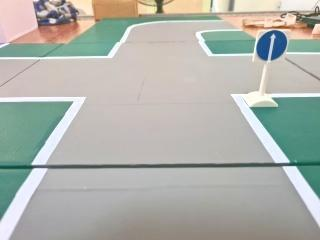straight: (253, 28, 290, 63)
